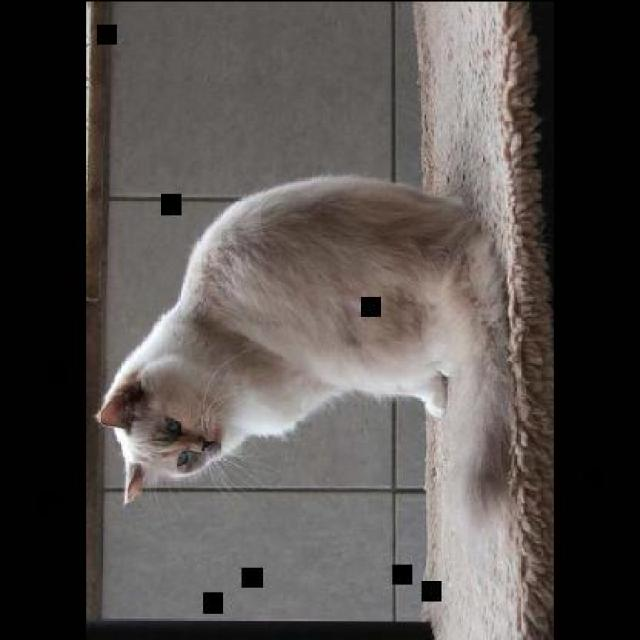unauthorized: (94, 171, 531, 638)
